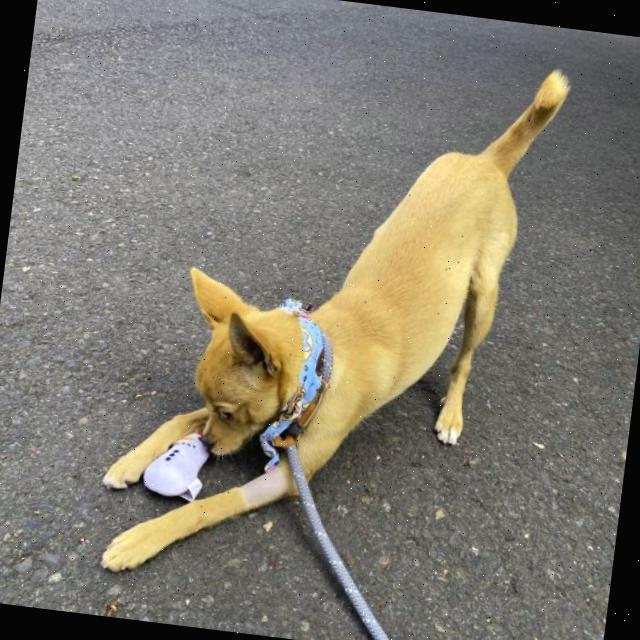chihuahua_dog: (162, 259, 320, 475)
